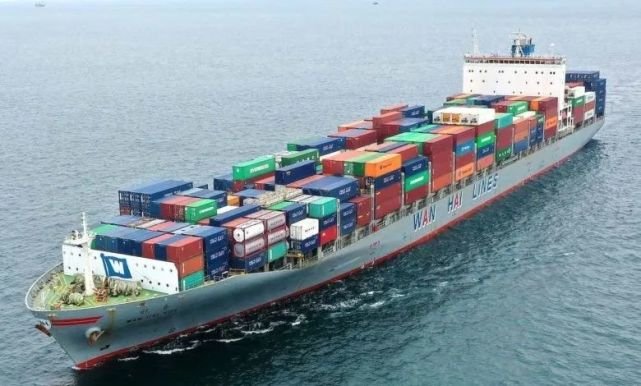Cargoship: (20, 30, 610, 370)
